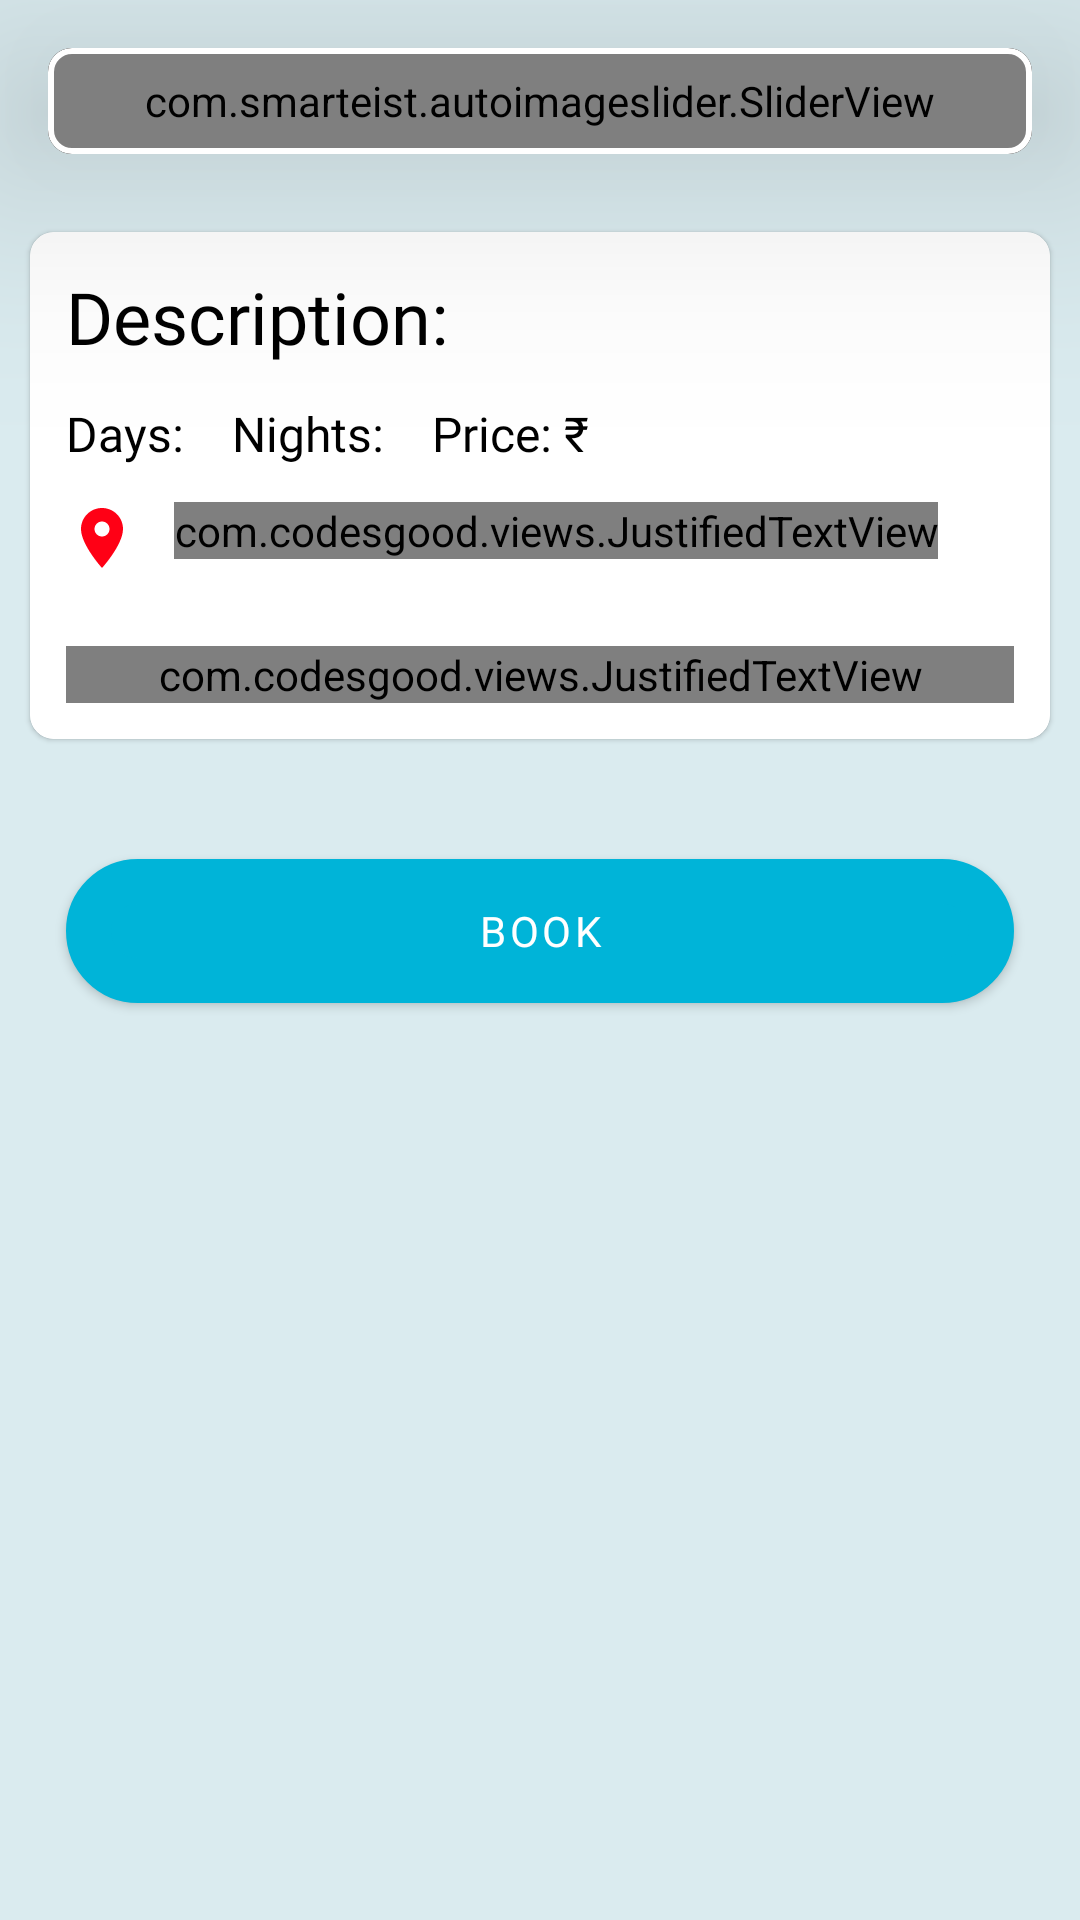

Named icons in this screenshot (1080px×1920px) and their centers, point (x, y):
location on: point (102, 538)
